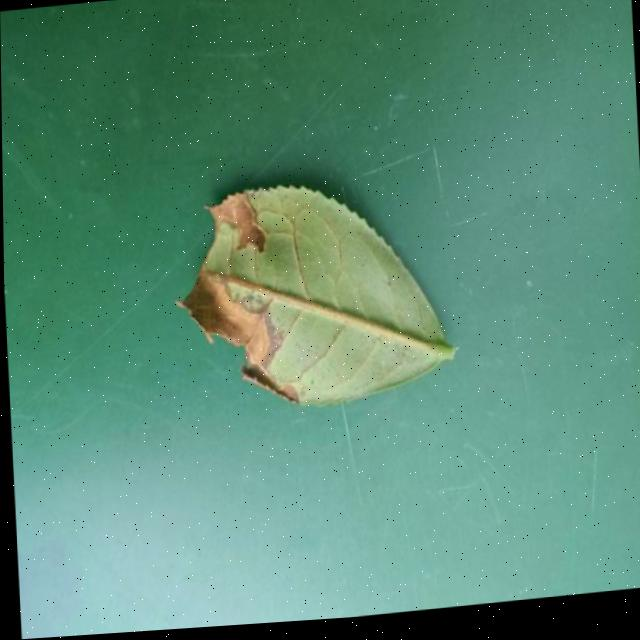Tea cloud leaf blight: (182, 185, 291, 413)
